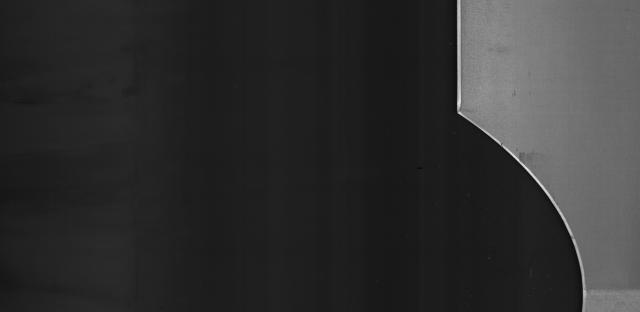crescent_gap: (440, 96, 590, 310)
welding_line: (573, 276, 637, 302)
